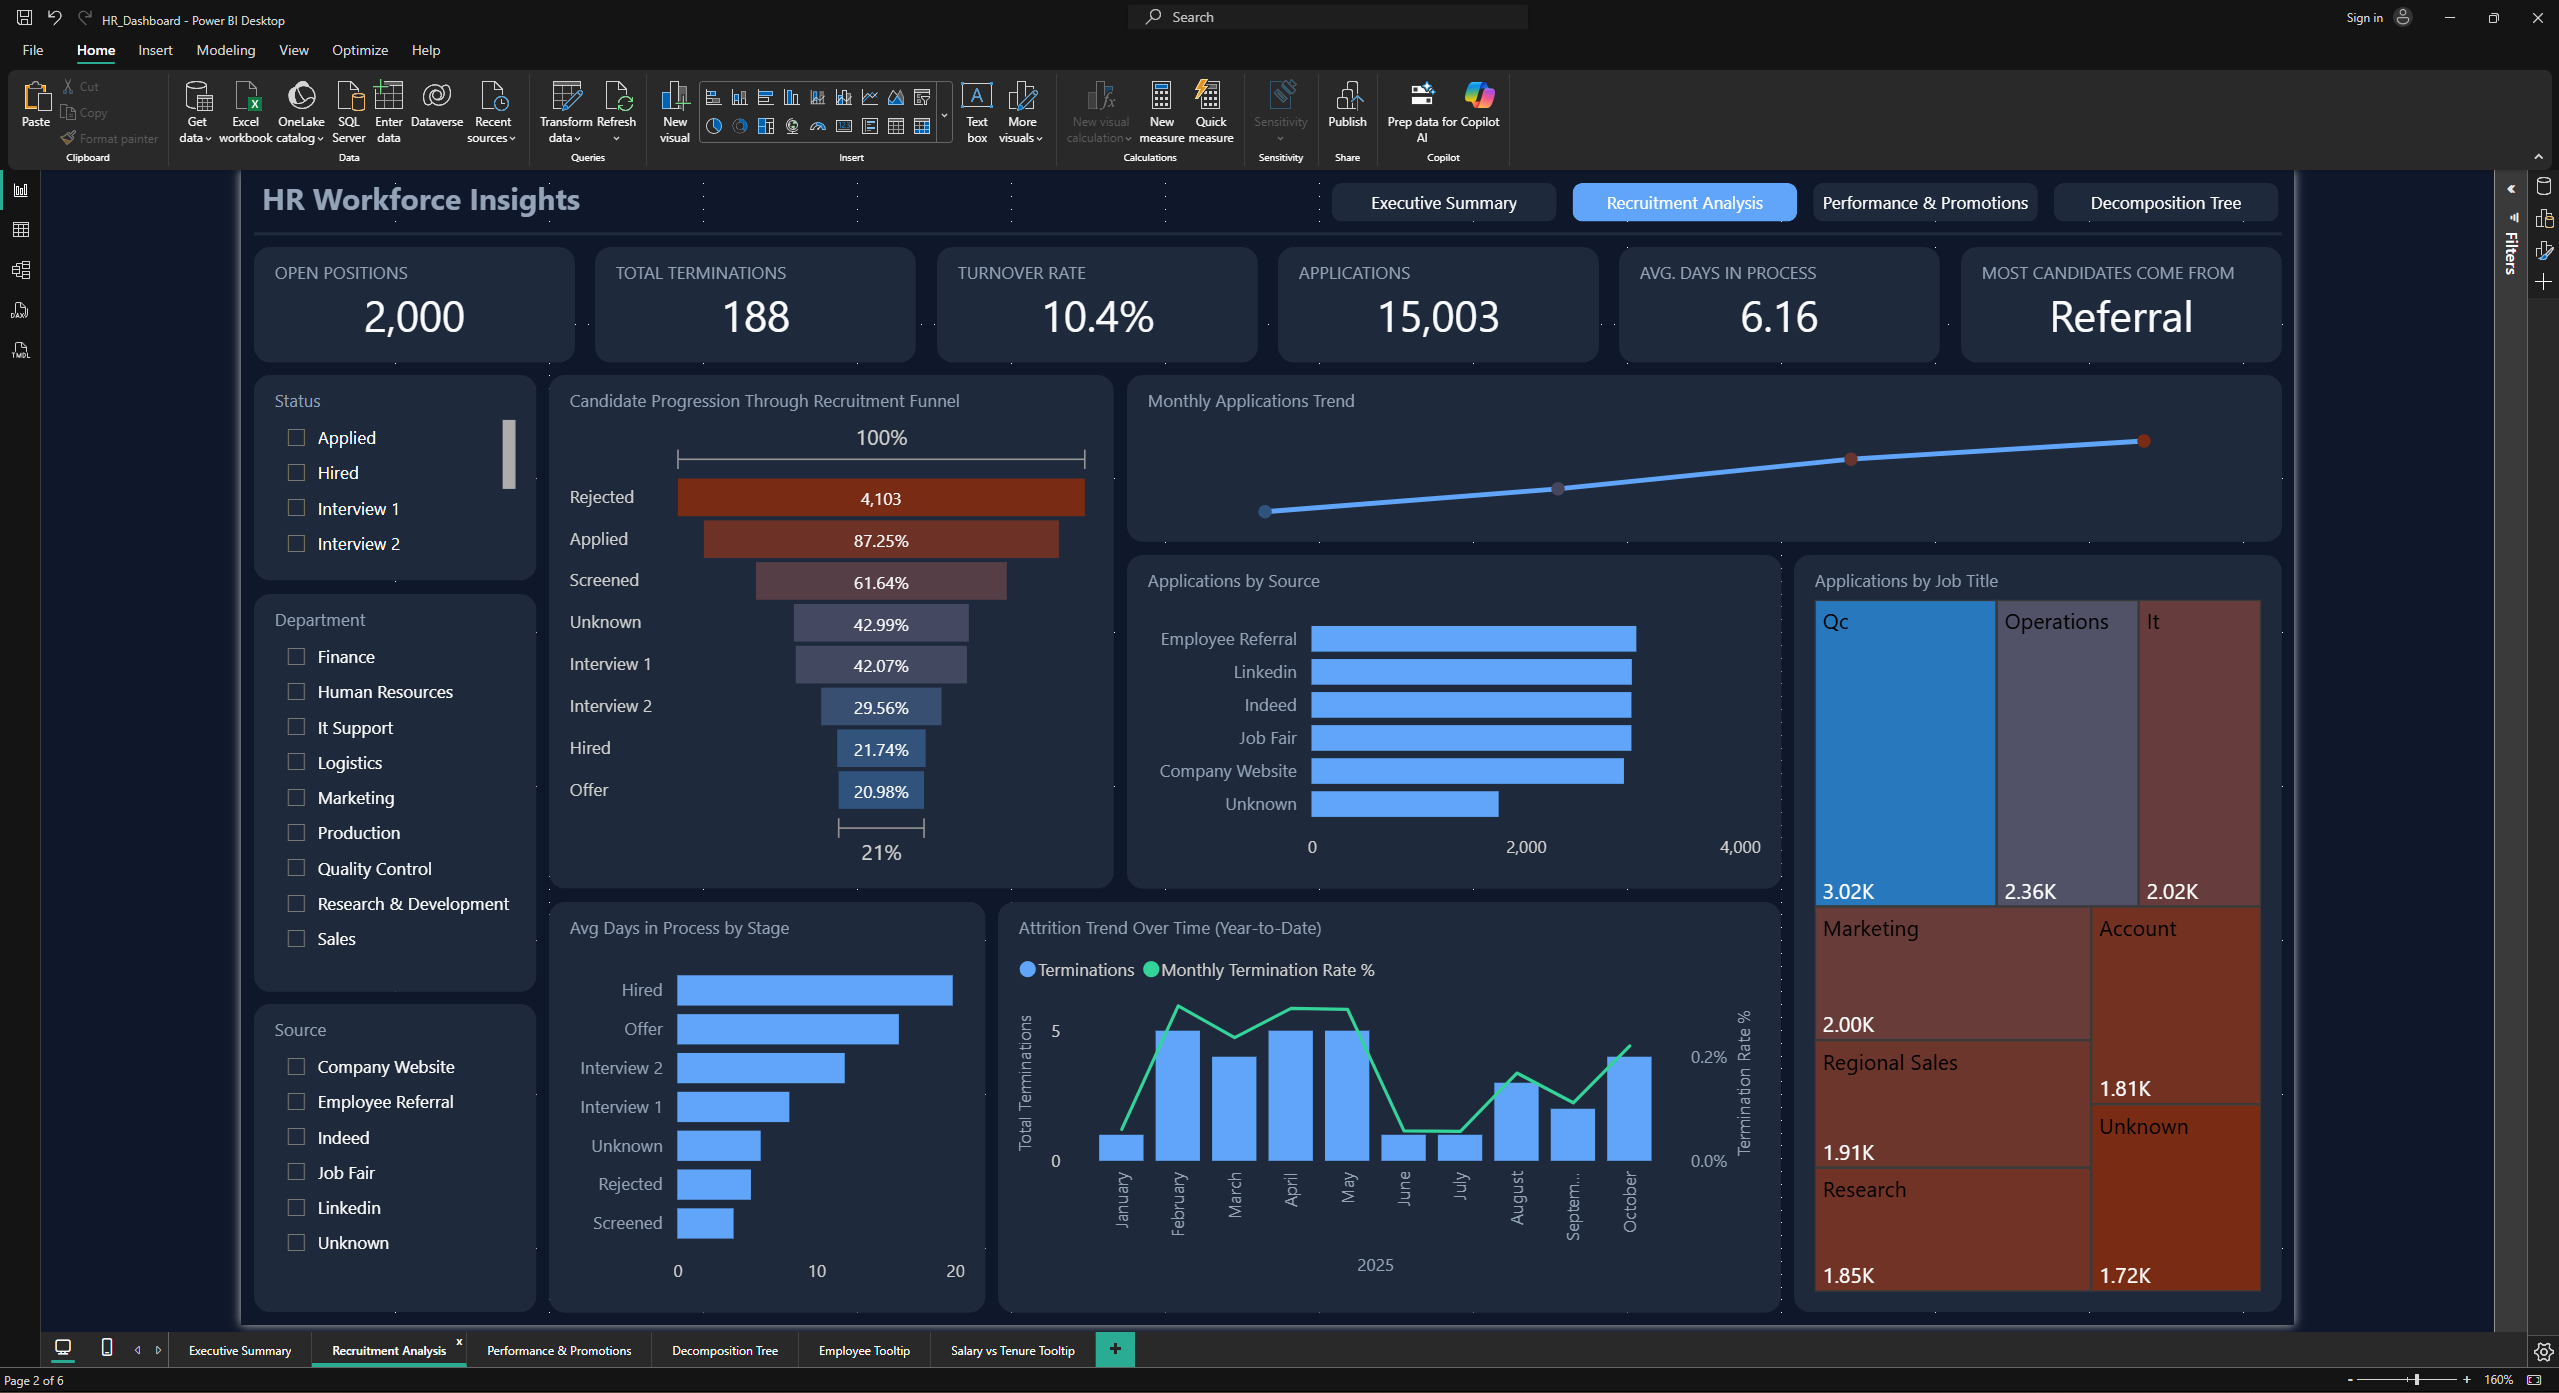

The page's visual inventory and layout, read from the dashboard file:
{"tool":"powerbi","page":{"name":"Recruitment Analysis","canvas":[1280,720],"ordinal":1},"visuals":[{"type":"textbox","box":[8,0,224,40],"z":0},{"type":"shape","box":[8,32,1264,16],"z":1000},{"type":"card","title":"TOTAL TERMINATIONS","fields":{"Values":["Compensation_History_cleaned.Terminations"]},"box":[220.8,48,200,72],"z":2000},{"type":"card","title":"AVG. DAYS IN PROCESS","fields":{"Values":["Compensation_History_cleaned.Avg Days in Process"]},"box":[859.2,48,200,72],"z":3000},{"type":"card","title":"TURNOVER RATE","fields":{"Values":["Compensation_History_cleaned.Turnover Rate %"]},"box":[433.6,48,200,72],"z":4000},{"type":"card","title":"OPEN POSITIONS","fields":{"Values":["Compensation_History_cleaned.Hires"]},"box":[8,48,200,72],"z":5000},{"type":"lineClusteredColumnComboChart","title":"Attrition Trend Over Time (Year-to-Date)","fields":{"Category":["Headcount_cleaned.monthend.Variation.Date Hierarchy.Year","Headcount_cleaned.monthend.Variation.Date Hierarchy.Month"],"Y":["Compensation_History_cleaned.Terminations"],"Y2":["Compensation_History_cleaned.Monthly Termination Rate %"]},"box":[472,456,488,256],"z":6000},{"type":"slicer","title":"Department","fields":{"Values":["Headcount_cleaned.department"]},"box":[8,264,176,248],"z":7000},{"type":"slicer","title":"Source","fields":{"Values":["Recruitment_Funnel_cleaned.source"]},"box":[8,520,176,192],"z":8000},{"type":"slicer","title":"Status","fields":{"Values":["Recruitment_Funnel_cleaned.stage"]},"box":[8,128,176,128],"z":9000},{"type":"card","title":"APPLICATIONS","fields":{"Values":["Compensation_History_cleaned.Applications"]},"box":[646.4,48,200,72],"z":10000},{"type":"card","title":"MOST CANDIDATES COME FROM","fields":{"Values":["Compensation_History_cleaned.Best Source"]},"box":[1072,48,200,72],"z":11000},{"type":"funnel","title":"Candidate Progression Through Recruitment Funnel","fields":{"Category":["Recruitment_Funnel_cleaned.stage"],"Y":["CountNonNull(Recruitment_Funnel_cleaned.candidateid)"]},"box":[192,128,352,320],"z":12000},{"type":"lineChart","title":"Monthly Applications Trend","fields":{"Category":["Recruitment_Funnel_cleaned.applicationdate.Variation.Date Hierarchy.Month"],"Y":["CountNonNull(Recruitment_Funnel_cleaned.candidateid)"]},"box":[552,128,720,104],"z":13000},{"type":"barChart","title":"Applications by Source","fields":{"Category":["Recruitment_Funnel_cleaned.source"],"Y":["CountNonNull(Recruitment_Funnel_cleaned.candidateid)"]},"box":[552,240,408,208],"z":14000},{"type":"clusteredBarChart","fields":{"Category":["Recruitment_Funnel_cleaned.stage"],"Y":["Compensation_History_cleaned.Avg Days in Process"]},"box":[192,456,272,256],"z":15000},{"type":"treemap","title":"Applications by Job Title","fields":{"Group":["Recruitment_Funnel_cleaned.jobtitle"],"Values":["CountNonNull(Recruitment_Funnel_cleaned.candidateid)"]},"box":[968,240,304,472],"z":16000},{"type":"pageNavigator","box":[680,8,592,24],"z":17000}]}

Visuals, with their boxes on the page's 1280x720 design canvas (x1, y1, x2, y2). These are canvas units, not pixel positions in the 2559x1393 screenshot, which may show the page scaled, cropped or inside an application window:
textbox: [8, 0, 232, 40]
shape: [8, 32, 1272, 48]
"TOTAL TERMINATIONS" card: [221, 48, 421, 120]
"AVG. DAYS IN PROCESS" card: [859, 48, 1059, 120]
"TURNOVER RATE" card: [434, 48, 634, 120]
"OPEN POSITIONS" card: [8, 48, 208, 120]
"Attrition Trend Over Time (Year-to-Date)" lineClusteredColumnComboChart: [472, 456, 960, 712]
"Department" slicer: [8, 264, 184, 512]
"Source" slicer: [8, 520, 184, 712]
"Status" slicer: [8, 128, 184, 256]
"APPLICATIONS" card: [646, 48, 846, 120]
"MOST CANDIDATES COME FROM" card: [1072, 48, 1272, 120]
"Candidate Progression Through Recruitment Funnel" funnel: [192, 128, 544, 448]
"Monthly Applications Trend" lineChart: [552, 128, 1272, 232]
"Applications by Source" barChart: [552, 240, 960, 448]
clusteredBarChart - Recruitment_Funnel_cleaned.stage x Compensation_History_cleaned.Avg Days in Process: [192, 456, 464, 712]
"Applications by Job Title" treemap: [968, 240, 1272, 712]
pageNavigator: [680, 8, 1272, 32]
